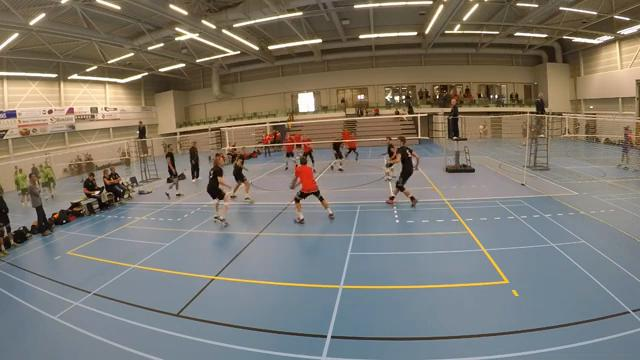ricezione: (280, 151, 336, 226)
